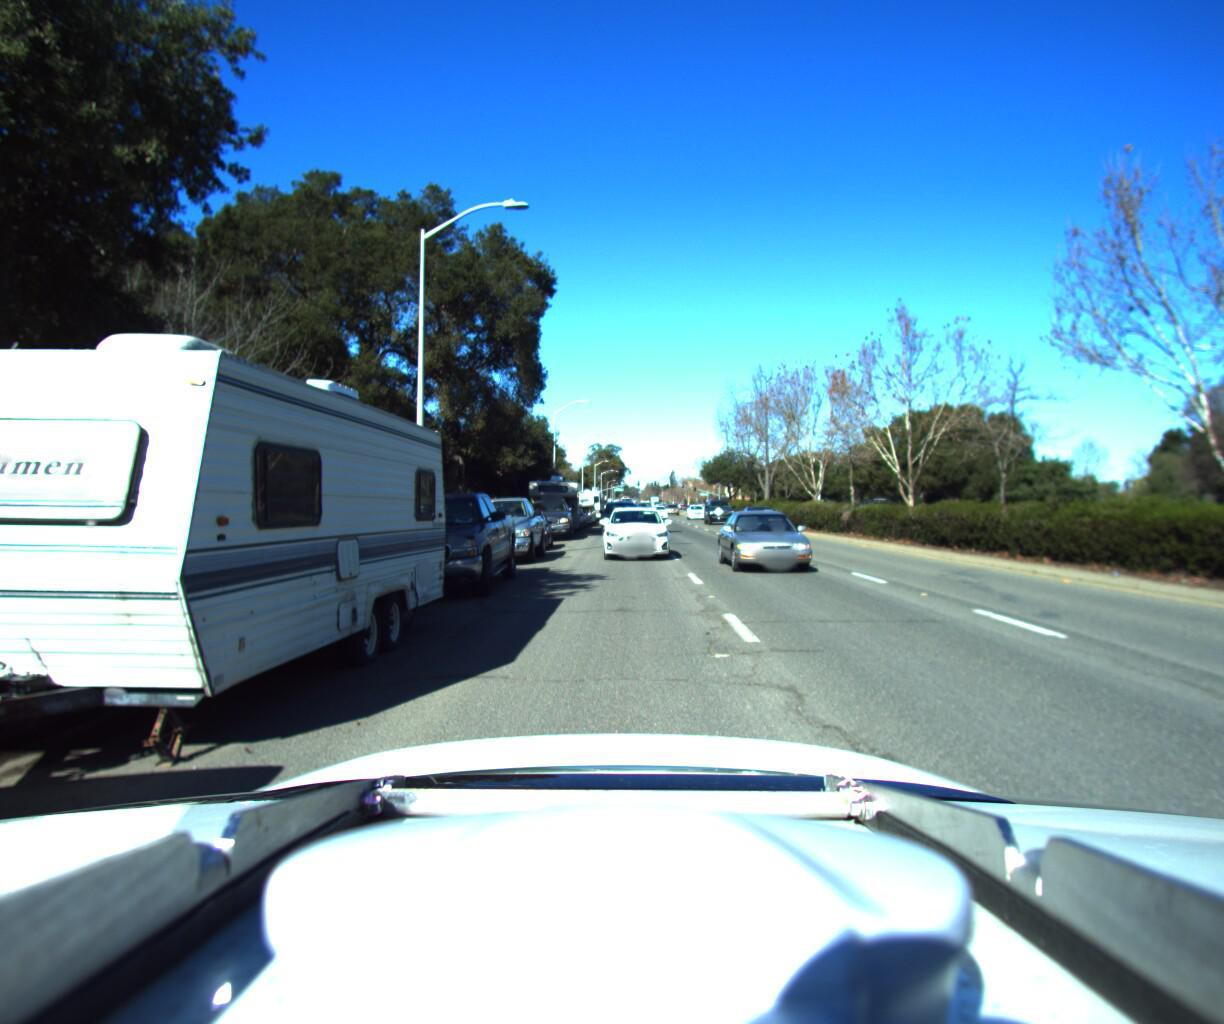car: (332, 481, 528, 606), (715, 499, 838, 577), (436, 487, 551, 565), (602, 498, 672, 556), (487, 499, 556, 548), (516, 486, 577, 537), (734, 496, 787, 527), (707, 496, 740, 517), (687, 495, 709, 513)
other_vehicle: (0, 275, 454, 830), (522, 465, 582, 530), (559, 481, 596, 520), (570, 480, 603, 514)
